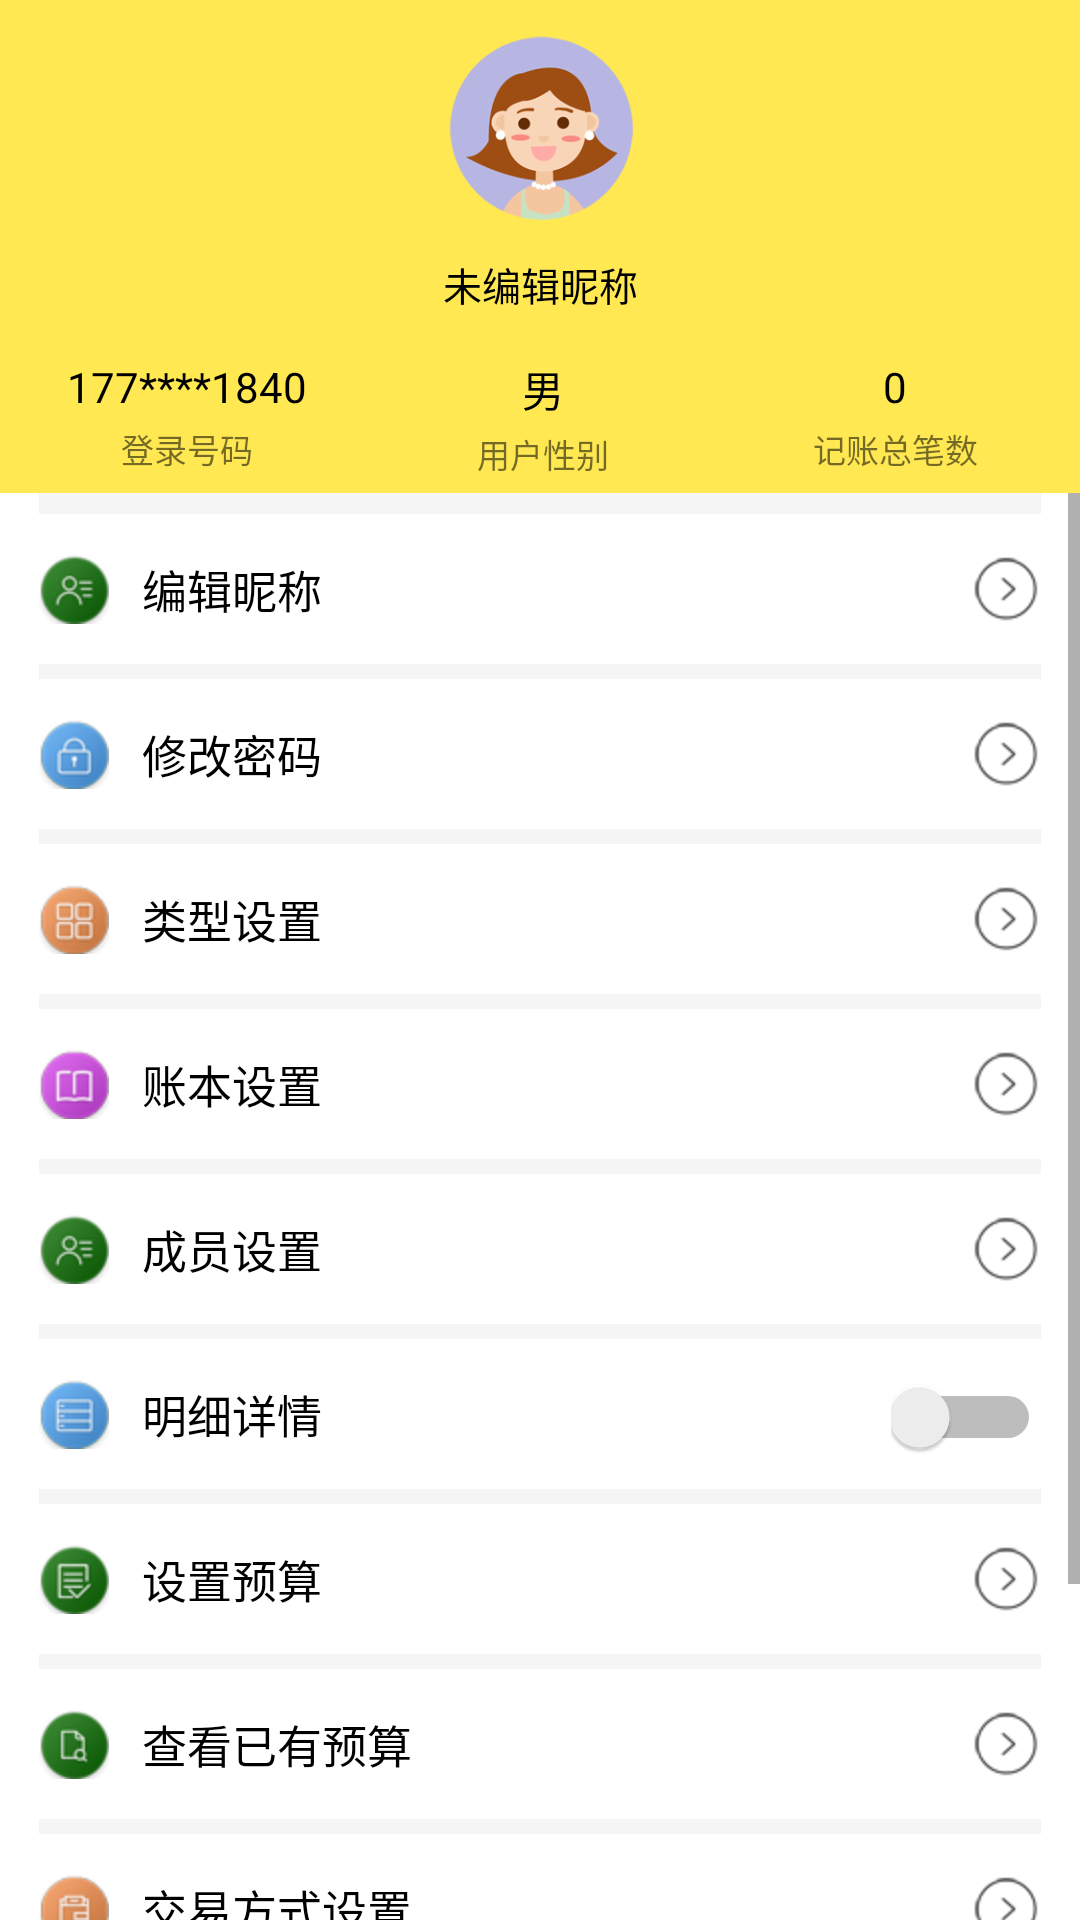

Icon click points for this 1080 x 1920 phone screenshot, format [x,y]:
woman: [541,128]
